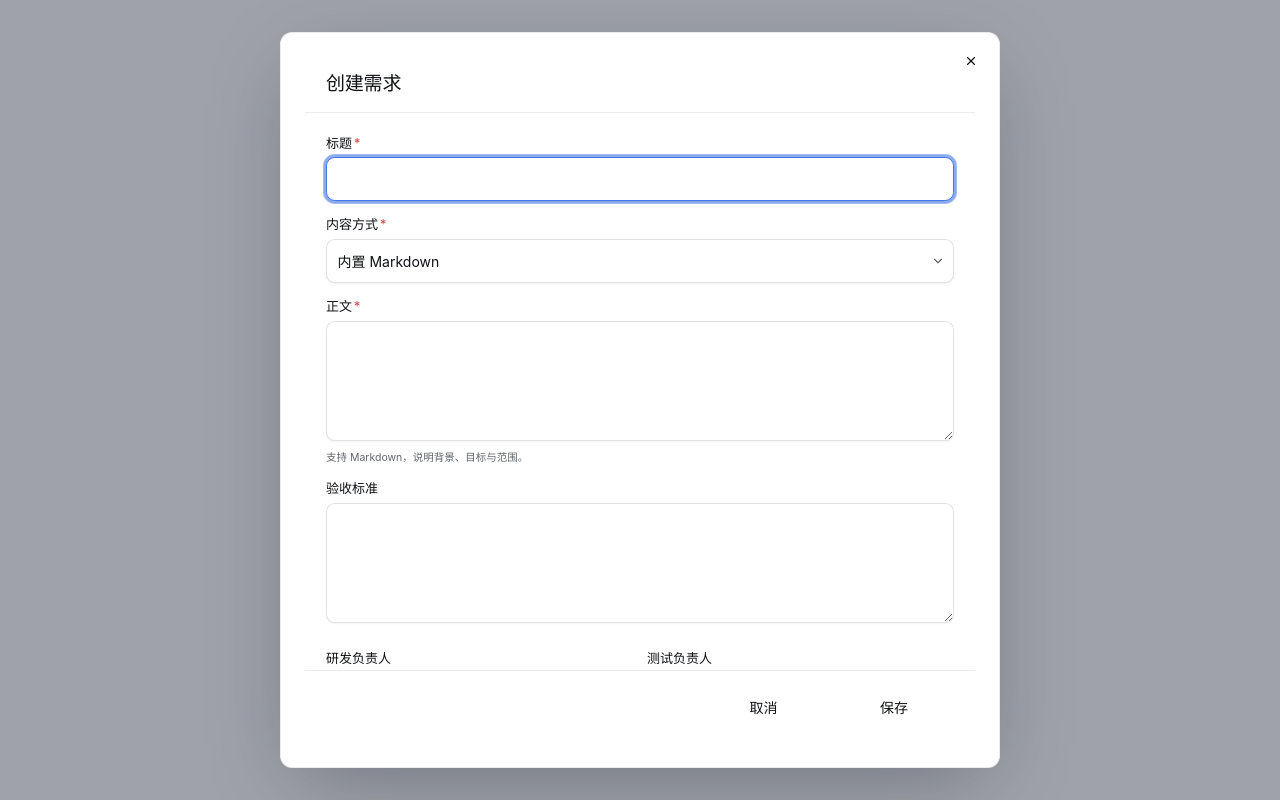
it: RequirementForm › 切换内容方式时条件字段替换且不保留占位
This screenshot has width=1280, height=800.
Select "外部文档链接" in the dropdown labelled "内容方式 *" at {"x": 640, "y": 261}, box [326, 239, 954, 283]
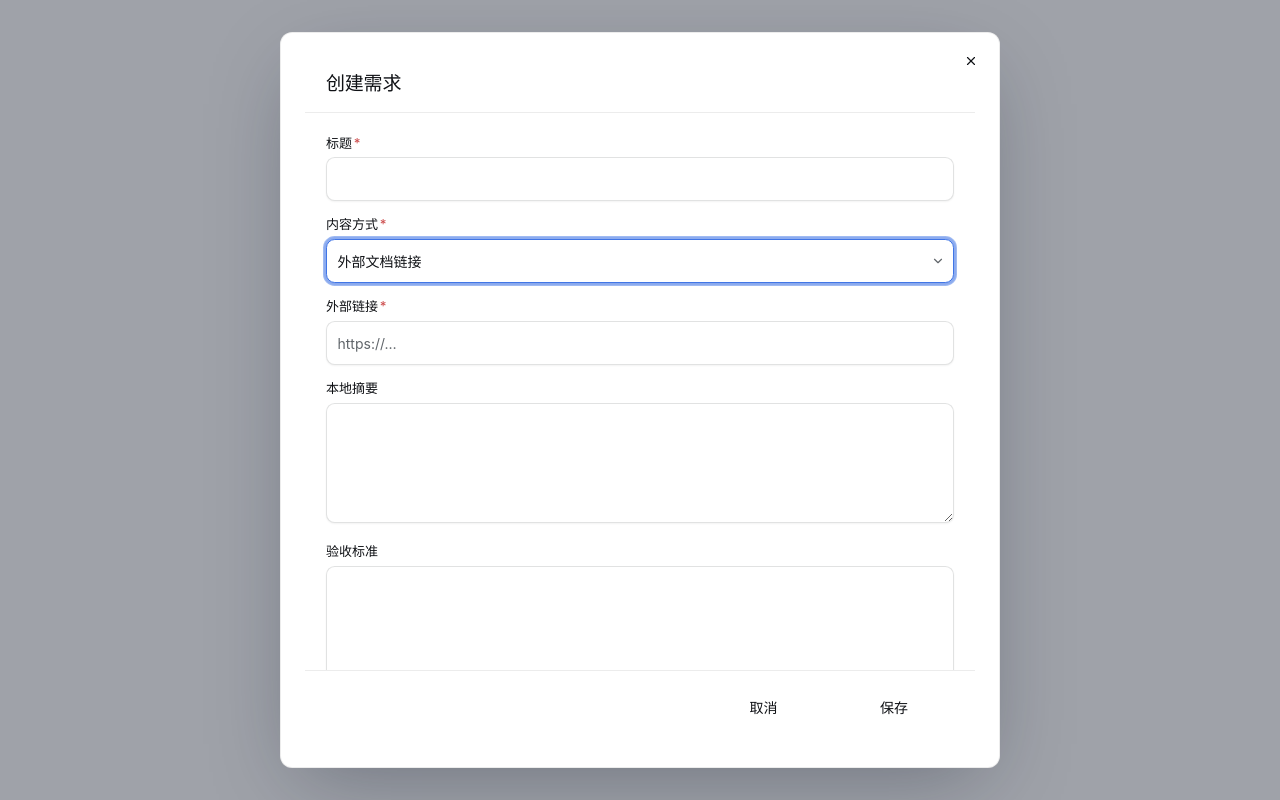
Expected: the text "正文" is gone
Expected: the field labelled "外部链接 *" is shown, [326, 321, 954, 365]
